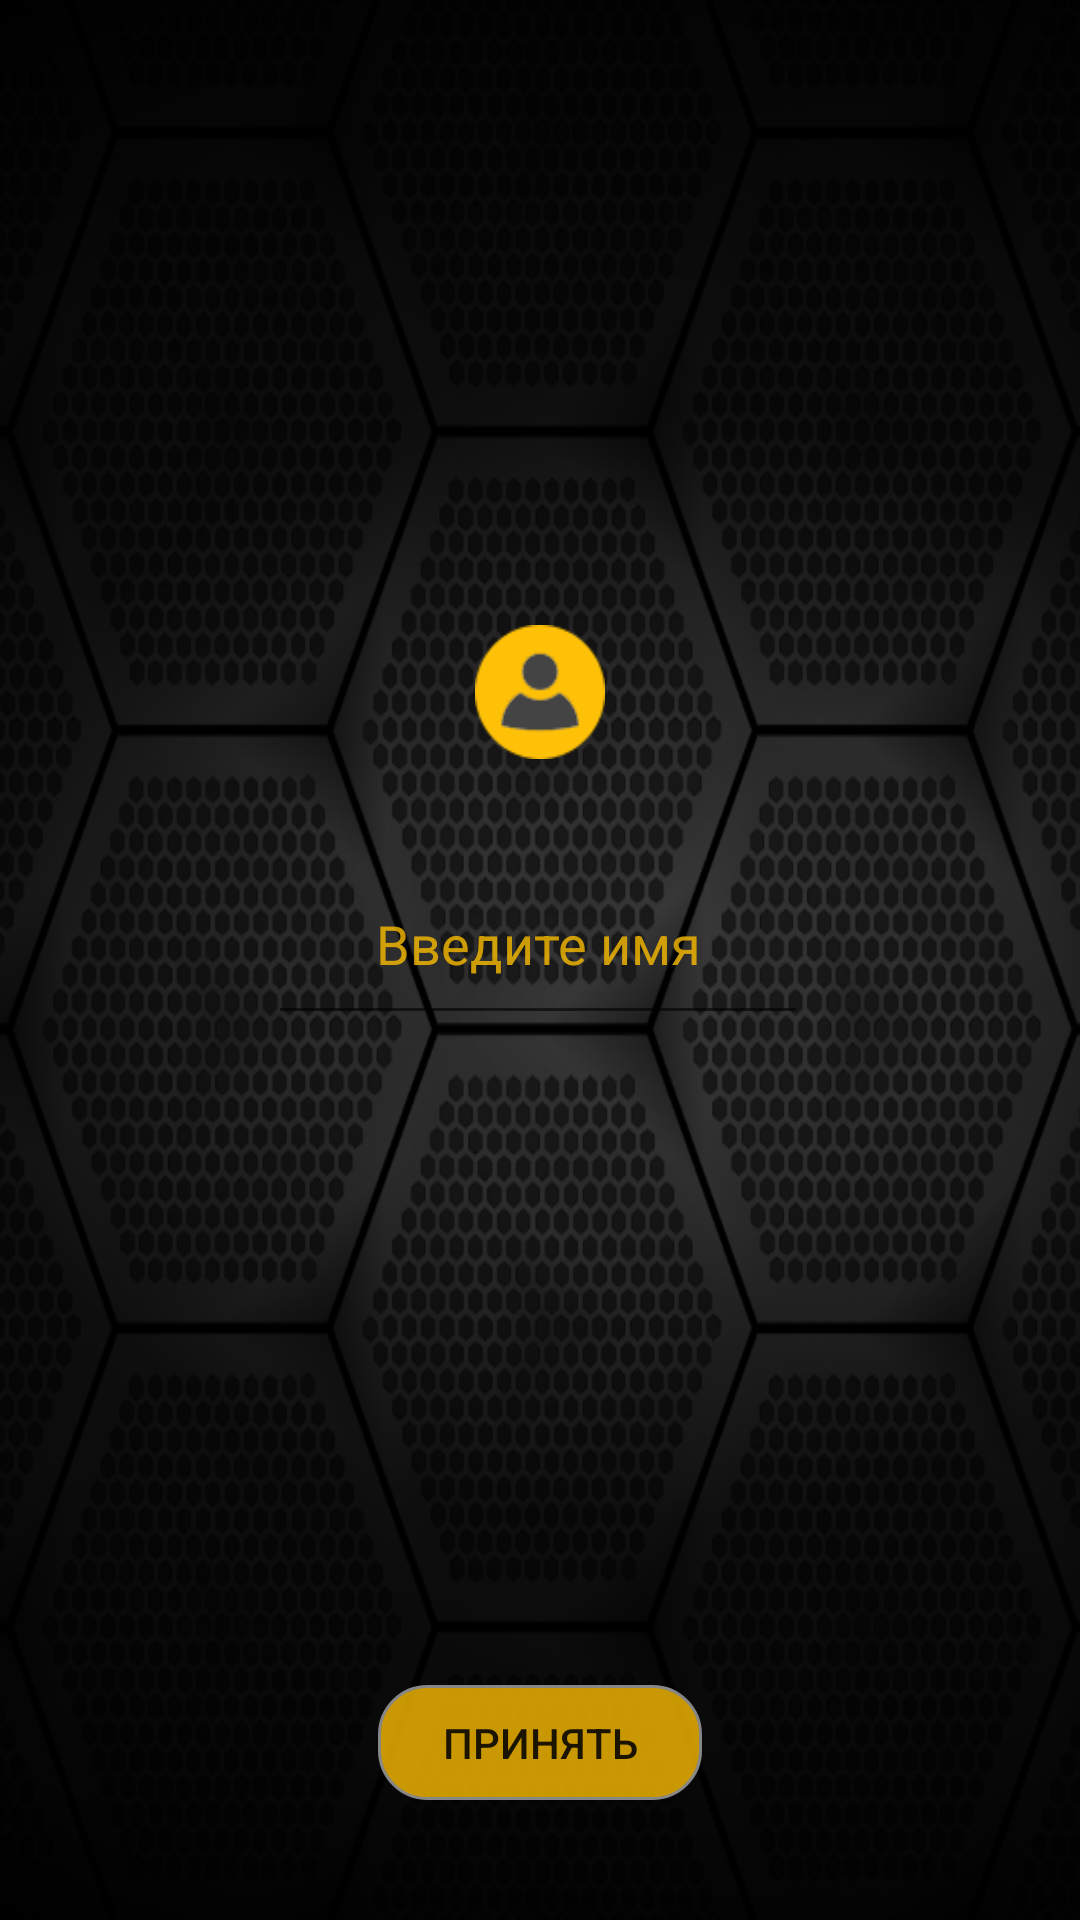

Where icons sit on this 1080 × 1920 app screen, as (x1=x1, y1=y1, x2=x2, y2=y2):
user profile: (x1=475, y1=625, x2=605, y2=759)
